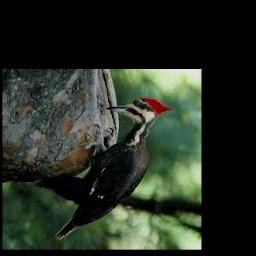Woodpecker: (54, 98, 173, 238)
